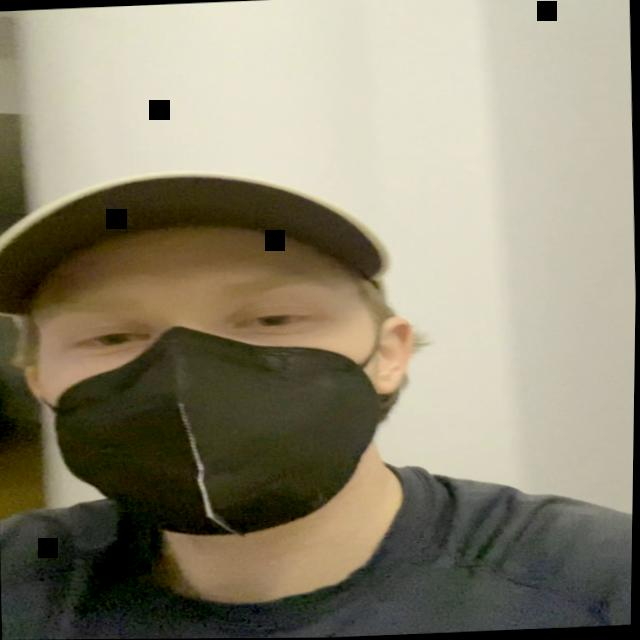Mask: (30, 221, 393, 542)
